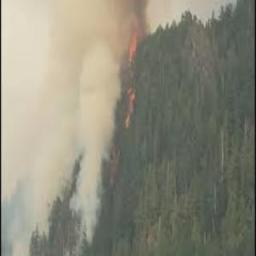Heavy smoke: (1, 2, 113, 146), (3, 150, 68, 197)
Medium fire: (123, 17, 142, 126)
